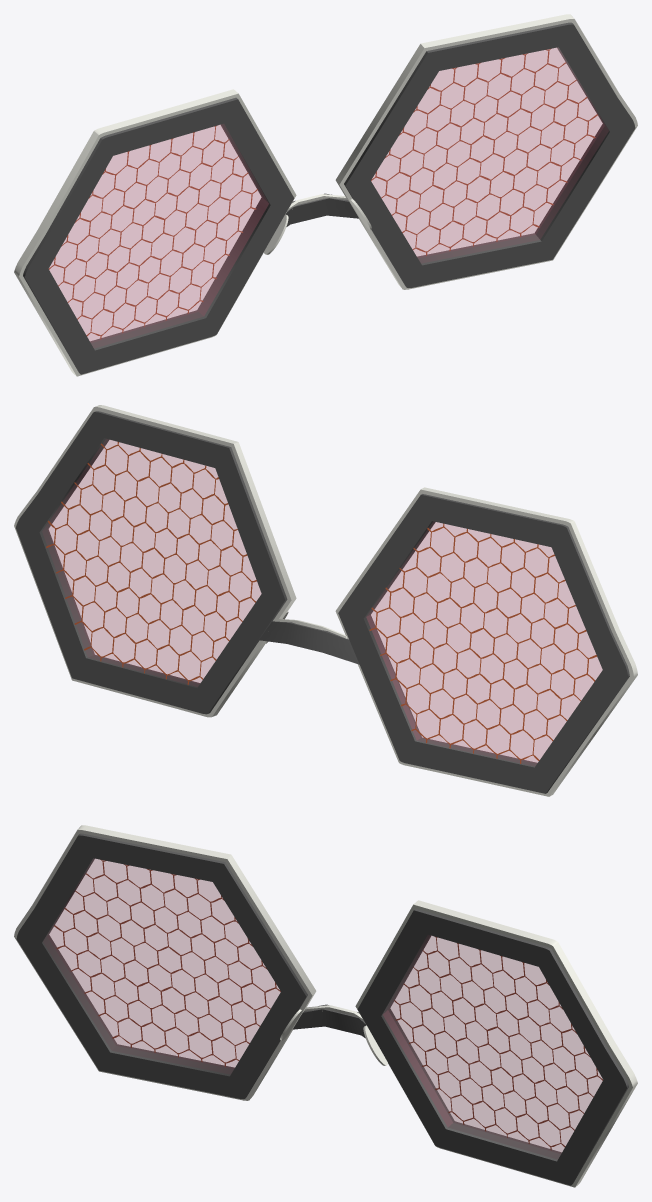
The model's file is Glasses_HoneyComb.fbx.
3 renders of one model, top to bottom at view 1: azimuth 30°, elevation 25°; view 2: azimuth 150°, elevation 25°; view 3: azimuth 330°, elevation 25°, orthographic.
Parts seen in each view (by area): view 1: Cylinder_3, Cap_1_3, Cap_1_2, conrotno, Cap_1, marcometalico, uniun_2, Cylinder; view 2: Cylinder_3, Cap_2_3, Cap_2_2, conrotno, Cap_2, marcometalico, uniun_2; view 3: Cylinder_3, Cap_1_3, Cap_1_2, conrotno, Cap_1, marcometalico, uniun_2, Cylinder.
Boxes of the visible parts, x1,y1,x2,y2 form: Cylinder_3: (49,47,608,347); Cap_1_3: (24,24,635,374); Cap_1_2: (49,49,597,339); conrotno: (23,22,609,374); Cap_1: (19,19,637,376); marcometalico: (14,14,574,375); uniun_2: (285,193,358,226); Cylinder: (264,198,371,254); Cylinder_3: (42,439,602,765); Cap_2_3: (16,412,627,793); Cap_2_2: (46,442,596,763); conrotno: (39,411,629,793); Cap_2: (14,407,633,796); marcometalico: (95,405,637,796); uniun_2: (259,621,359,664); Cylinder_3: (43,858,602,1158); Cap_1_3: (16,835,627,1185); Cap_1_2: (54,860,602,1150); conrotno: (42,833,628,1185); Cap_1: (14,830,632,1187); marcometalico: (77,825,637,1186); uniun_2: (293,1004,366,1038); Cylinder: (280,1009,387,1065).
Size of the model in its own units: 358 by 144 by 34.35.
